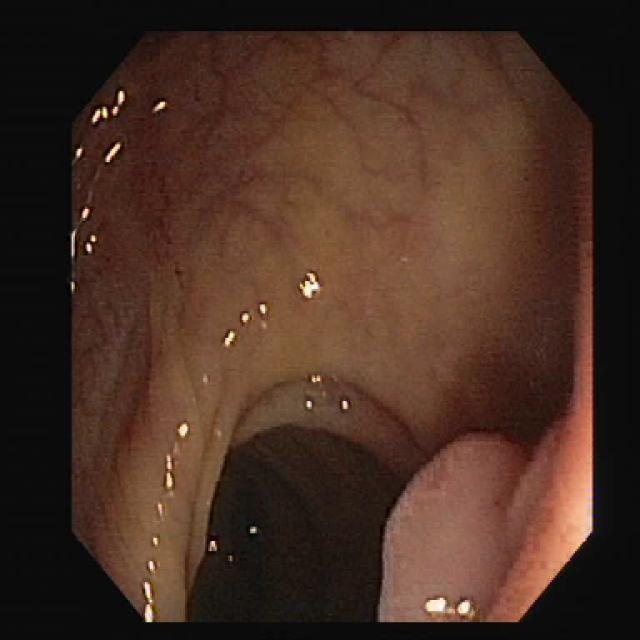tumor: (378, 433, 527, 620)
